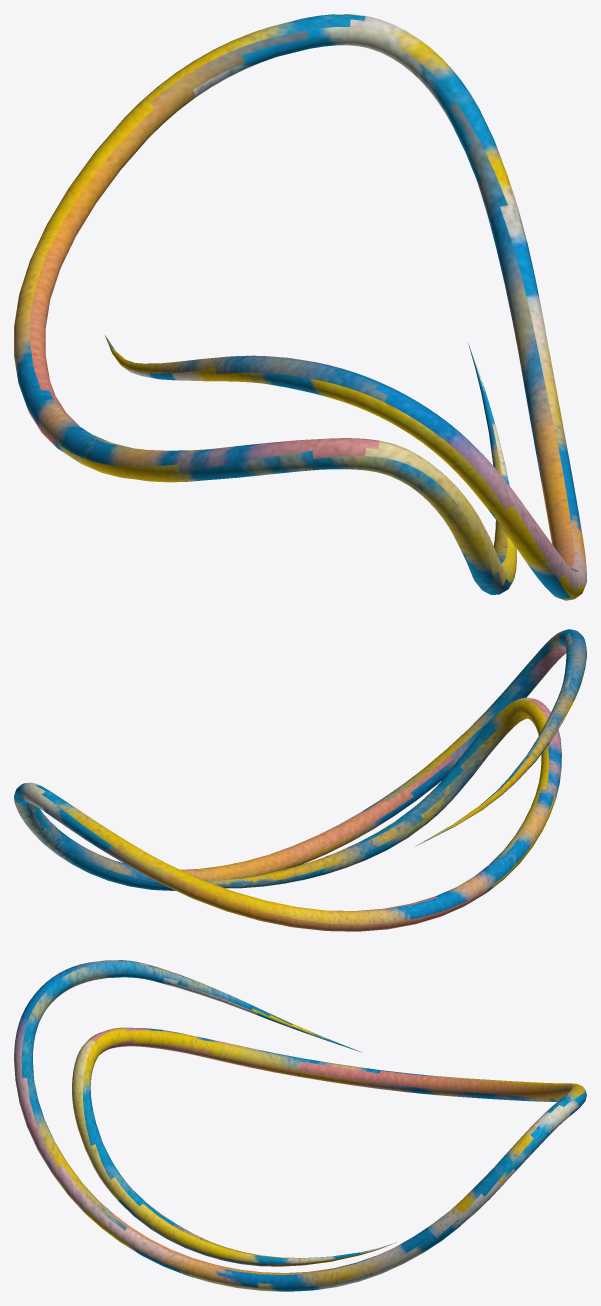
Rendered from loop.glb.
3 renders of one model, top to bottom at view 1: azimuth 30°, elevation 25°; view 2: azimuth 150°, elevation 25°; view 3: azimuth 270°, elevation 25°, orthographic. The views are drawn at different scales.
Parts seen in each view (by area): view 1: splendour_1.047_splendour_1.076; view 2: splendour_1.047_splendour_1.076; view 3: splendour_1.047_splendour_1.076.
Part boxes in pixels (x1,y1,x2,y2): splendour_1.047_splendour_1.076: (14, 14, 586, 600); splendour_1.047_splendour_1.076: (14, 629, 586, 931); splendour_1.047_splendour_1.076: (14, 960, 586, 1291).
Size of the model in its own units: 1.34 by 0.7957 by 1.93.
Materials: 1 (1 with a texture image).
